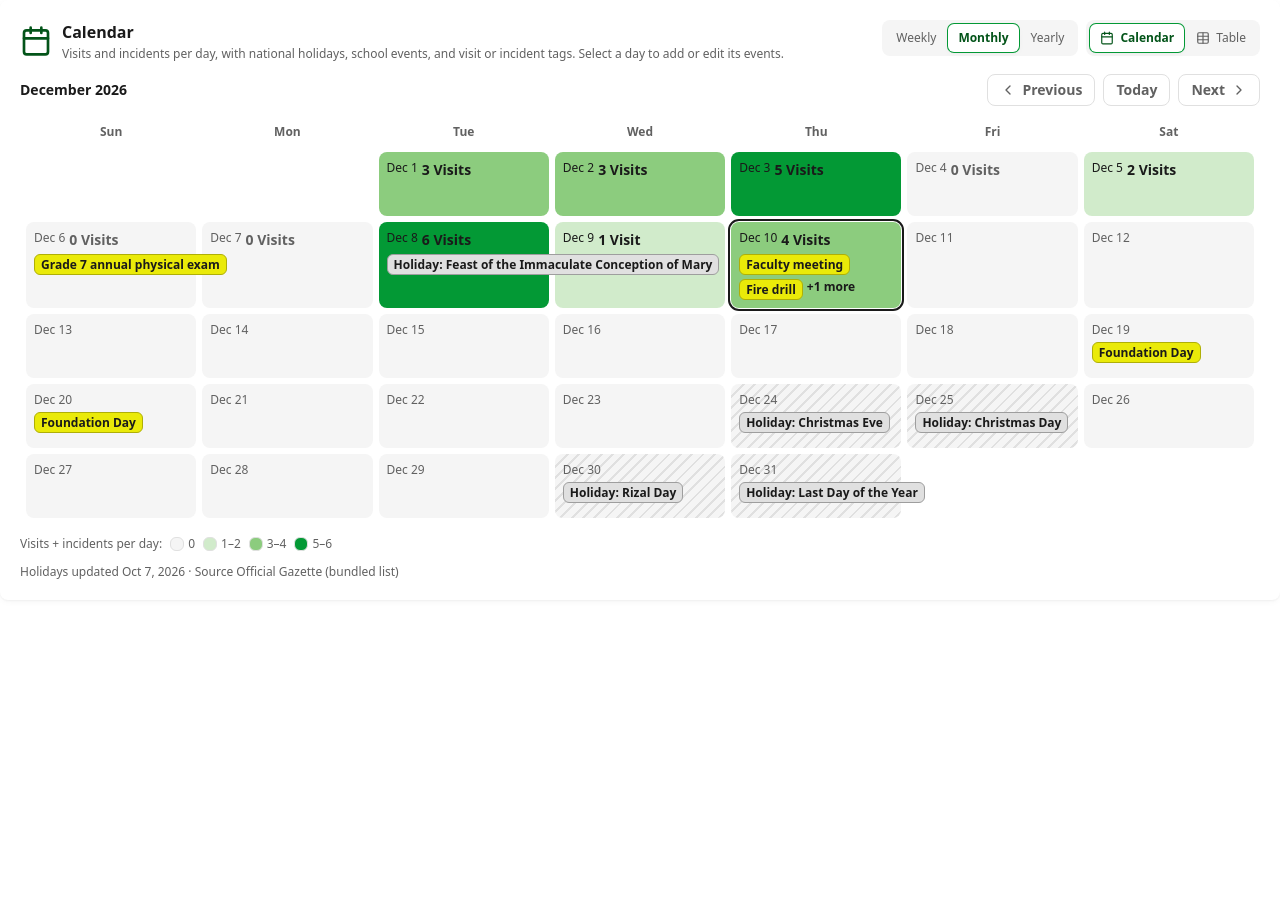
Dashboard calendar holiday layer (ADR-020) › lists the day’s holidays in the day panel with no edit or delete controls
This screenshot has width=1280, height=900.
Click the button with aria-label "December 25: holiday: Christmas Day" at (993, 416), box top-left (907, 384), bottom-right (1078, 448)
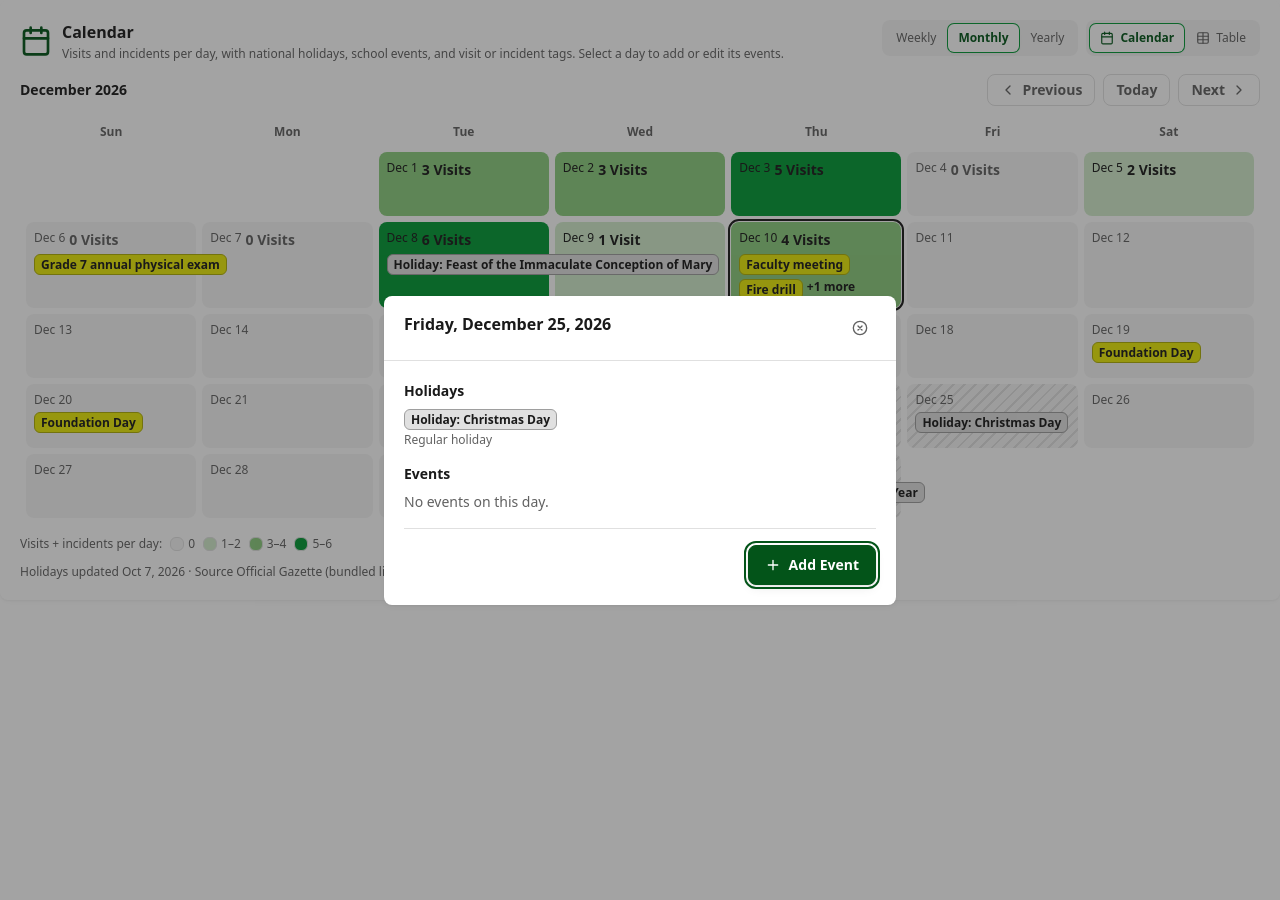
expect the text "Holiday: Christmas Day" is shown: met, box top-left (404, 408), bottom-right (557, 430)
expect the text "Regular holiday" is shown: met, box top-left (404, 432), bottom-right (492, 448)
